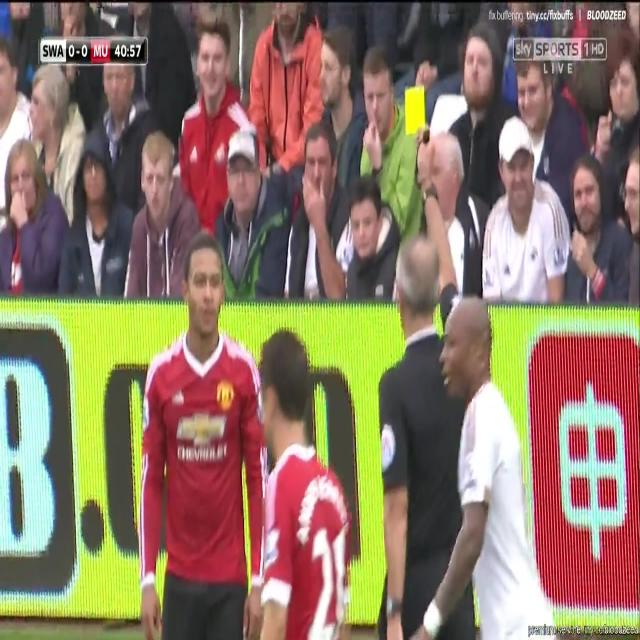Player: (406, 293, 556, 640), (137, 232, 264, 640), (256, 321, 354, 640)
Referee: (377, 127, 477, 640)
